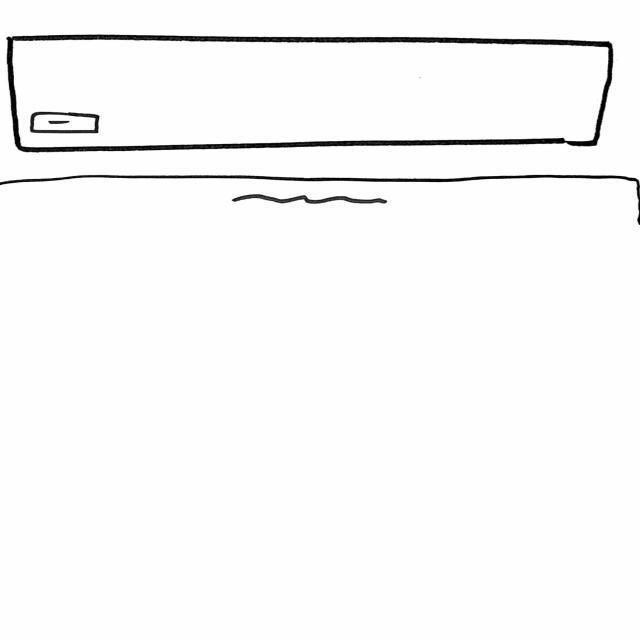container: (8, 36, 616, 154)
icon-button: (31, 112, 103, 138)
text: (230, 193, 394, 211)
